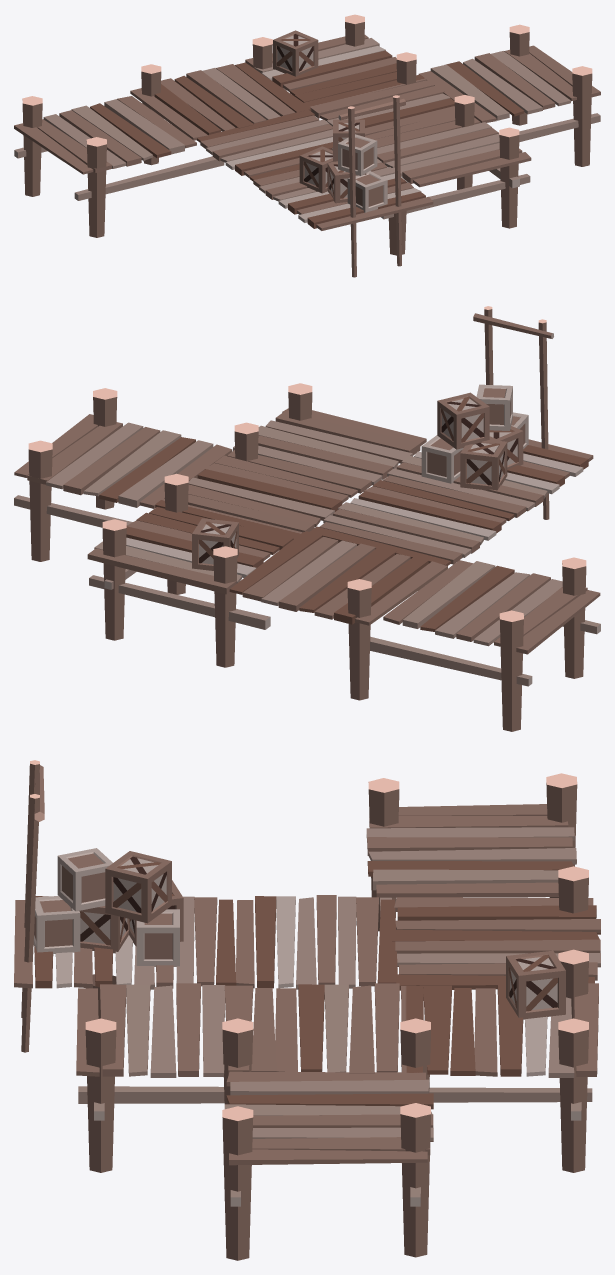
Rendered from platform.fbx.
3 renders of one model, top to bottom at view 1: azimuth 30°, elevation 25°; view 2: azimuth 150°, elevation 25°; view 3: azimuth 270°, elevation 25°, orthographic. The views are drawn at different scales.
Parts seen in each view (by area): view 1: platform; view 2: platform; view 3: platform.
Boxes of the visible parts, x1=… form: platform: x1=14, y1=14, x2=600, y2=277; platform: x1=14, y1=306, x2=600, y2=731; platform: x1=14, y1=760, x2=600, y2=1260.
Bounding box in the file's own units: 2358 × 838 × 1646.
1 material, 1 textured.
